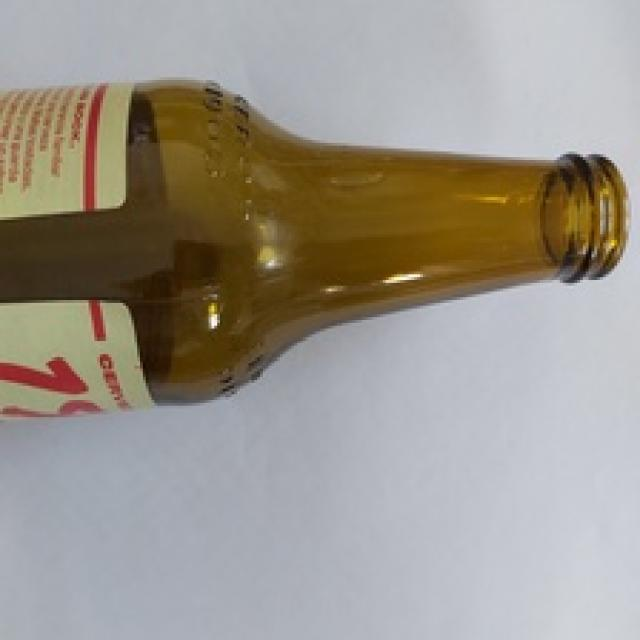Glass: (0, 79, 625, 414)
